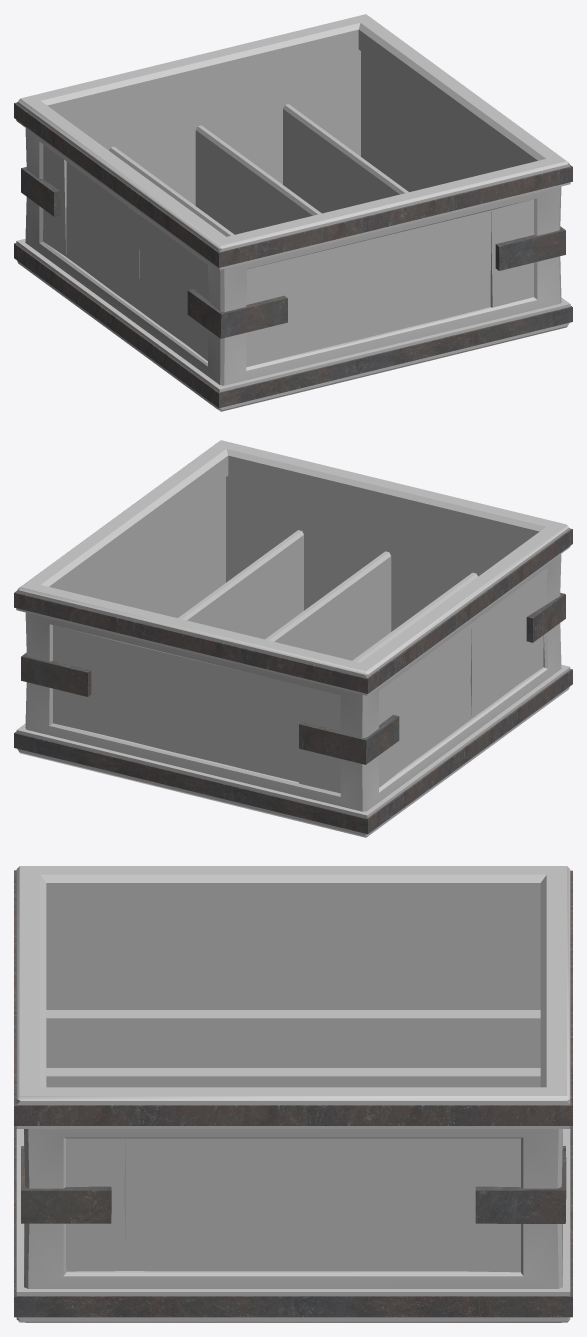
File: SM_Crate_A_02.fbx
3 renders of one model, top to bottom at view 1: azimuth 30°, elevation 25°; view 2: azimuth 150°, elevation 25°; view 3: azimuth 270°, elevation 25°, orthographic. The views are drawn at different scales.
Parts seen in each view (by area): view 1: SM_Crate_A_02_LOD0; view 2: SM_Crate_A_02_LOD0; view 3: SM_Crate_A_02_LOD0.
Part boxes in pixels (left/top/right/bottom): SM_Crate_A_02_LOD0: left=14, top=14, right=572, bottom=411; SM_Crate_A_02_LOD0: left=14, top=440, right=572, bottom=837; SM_Crate_A_02_LOD0: left=14, top=866, right=572, bottom=1322.
Size of the model in its own units: 89.92 by 90.2 by 40.82.
